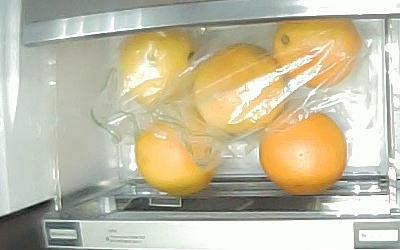grapefruit: (259, 111, 347, 196), (135, 120, 220, 197), (117, 31, 198, 106)
grapefruit_vinyl: (192, 44, 289, 136), (272, 20, 362, 88)
